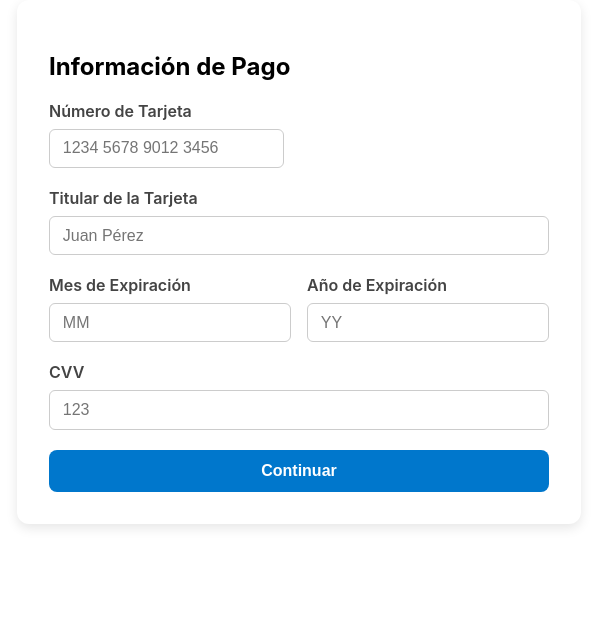
Scenario: PaymentForm Component › shows validation errors when fields are empty
This screenshot has width=599, height=630.
Click the button "Continuar": (299, 471) x1=49 y1=450 x2=549 y2=492
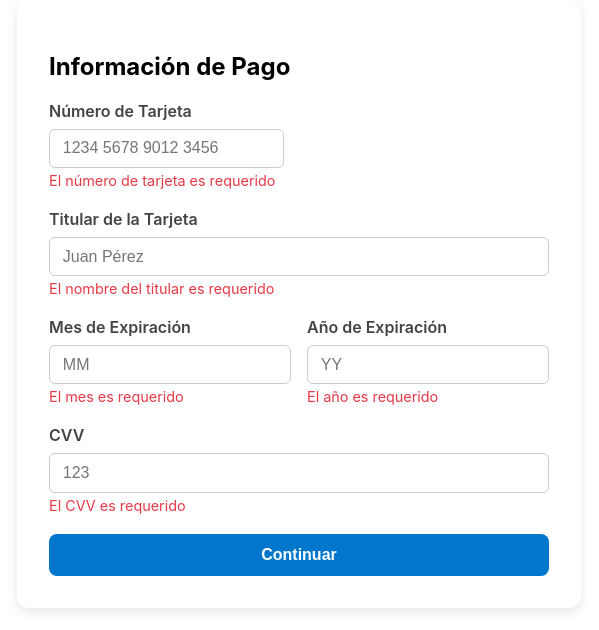
Check: the text "El número de tarjeta es requerido" is shown, box x1=49 y1=172 x2=275 y2=189
Check: the text "El nombre del titular es requerido" is shown, box x1=49 y1=280 x2=274 y2=297
Check: the text "El mes es requerido" is shown, box x1=49 y1=388 x2=184 y2=405
